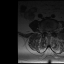CCS_normal: (47, 29, 49, 37)
LFS_normal: (51, 28, 53, 35)
LLS_normal: (50, 29, 51, 36)
RFS_normal: (44, 29, 46, 34)
RLS_normal: (46, 29, 48, 35)
